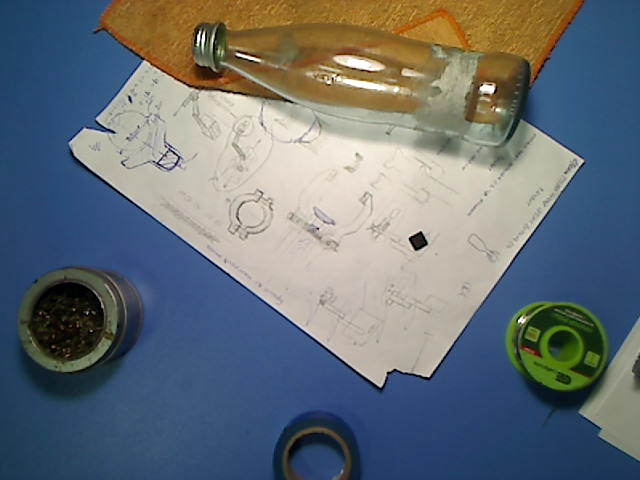bottle: (190, 21, 530, 150)
